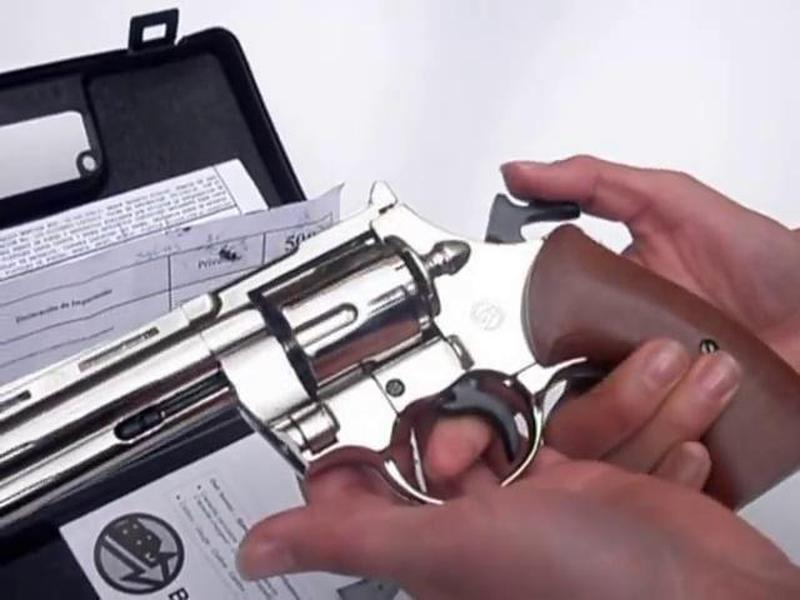Revolver: (1, 129, 689, 578)
